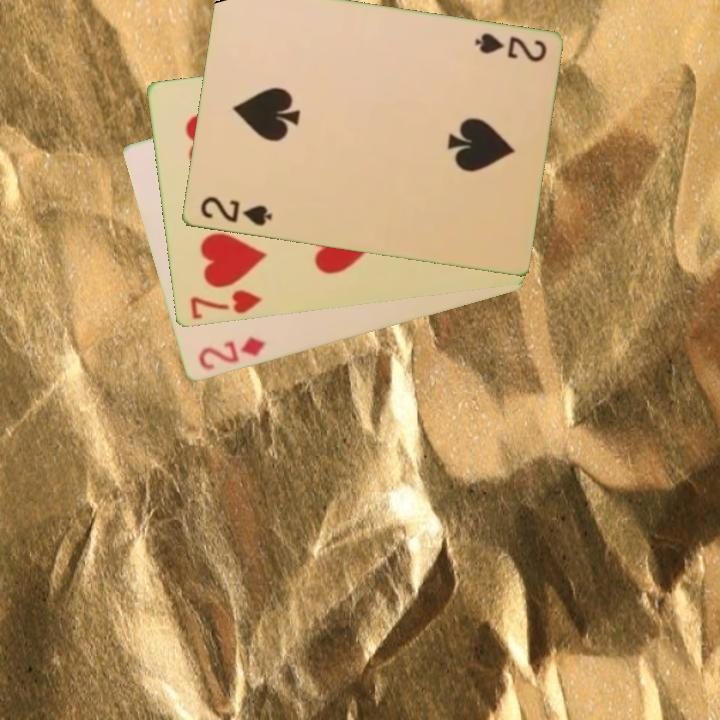2d: (194, 333, 268, 374)
2s: (470, 29, 549, 66), (196, 193, 275, 229)
7h: (186, 287, 265, 323)
